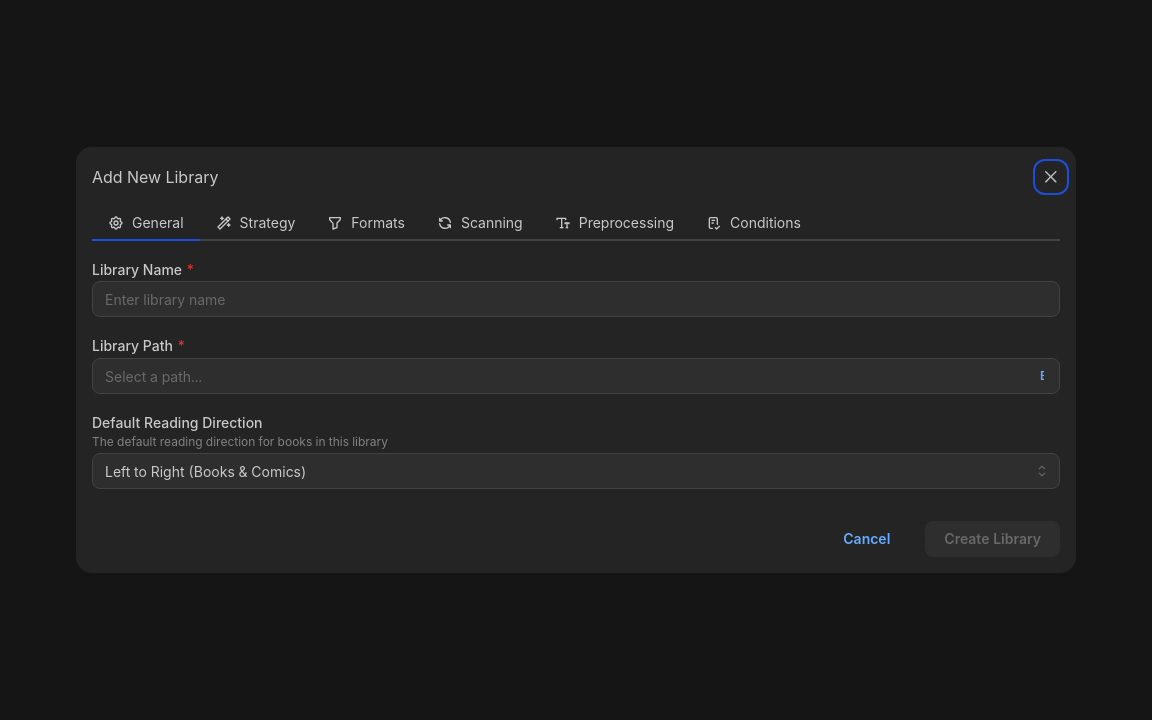
it: LibraryModal (Add Mode) › should not show cron input when manual scan strategy is selected
The width and height of the screenshot is (1152, 720).
Expected: the dialog is shown, top-left (76, 147), bottom-right (1076, 573)
# Navigate to the Scanning tab
Click the tab "Scanning" at [480, 224], box top-left (421, 207), bottom-right (539, 241)
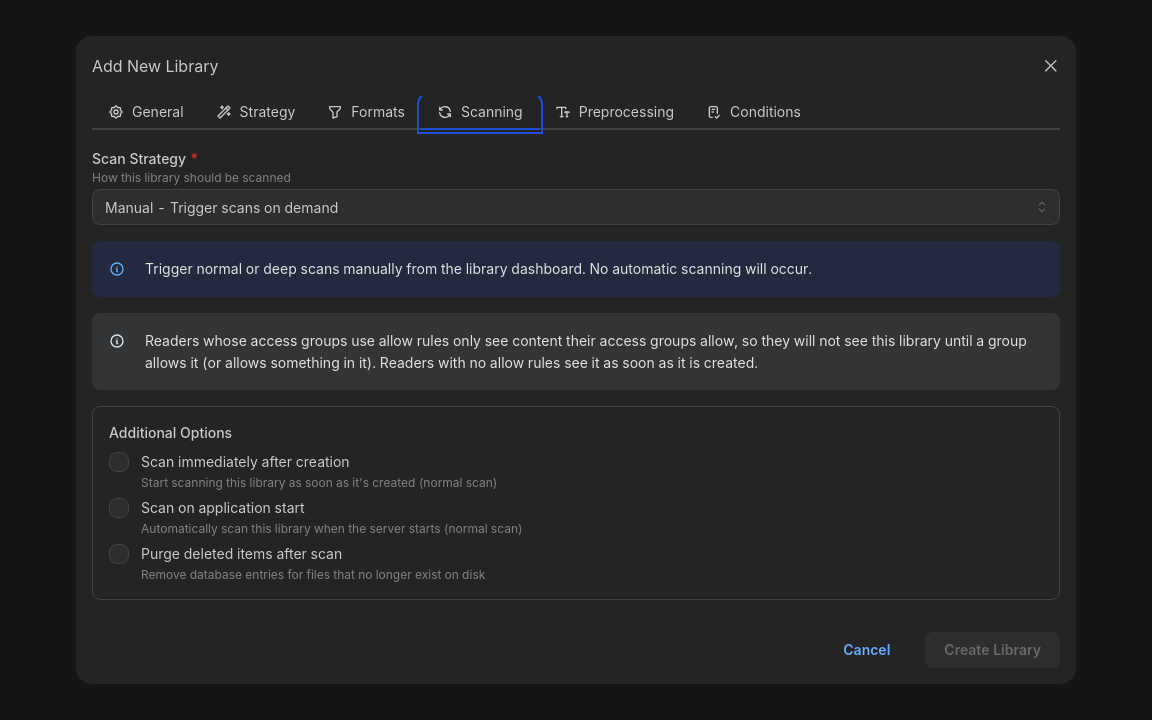
Expected: the text "Scan Strategy" is shown, top-left (92, 150), bottom-right (186, 167)
